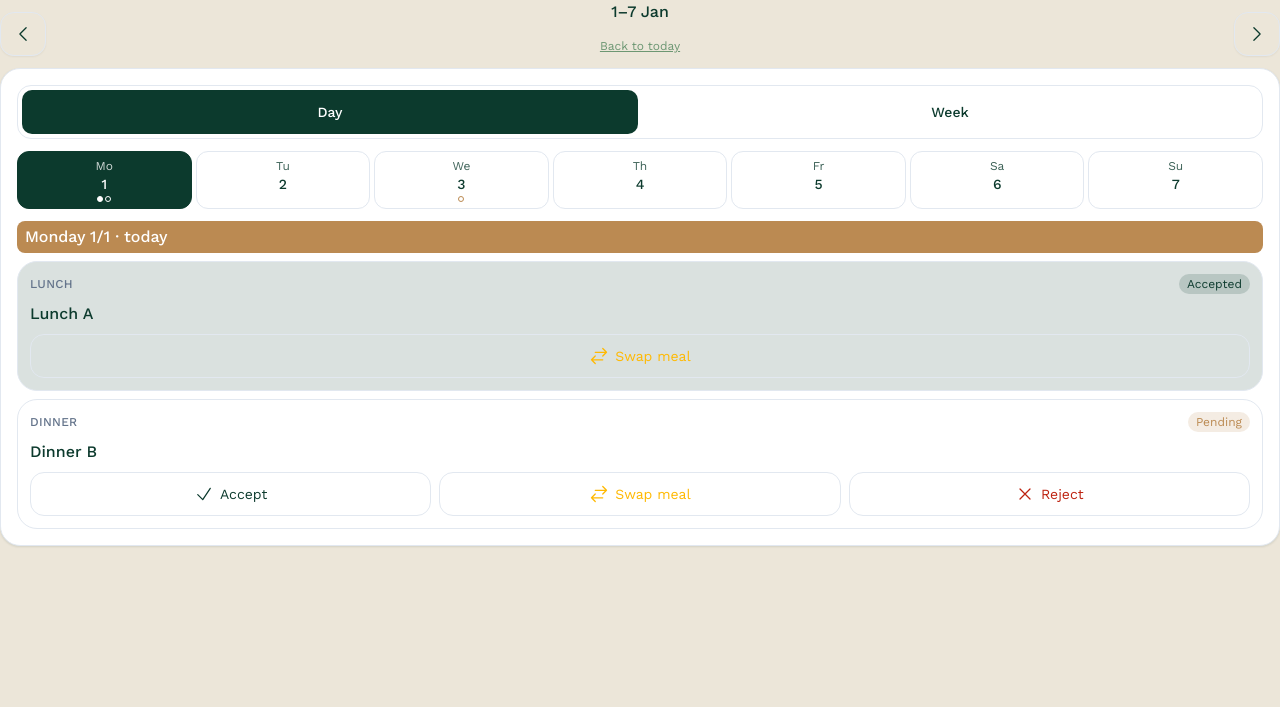
the week toggle shows every day and is remembered across remounts
Click the button "Week": [950, 112] box x1=642 y1=90 x2=1258 y2=134
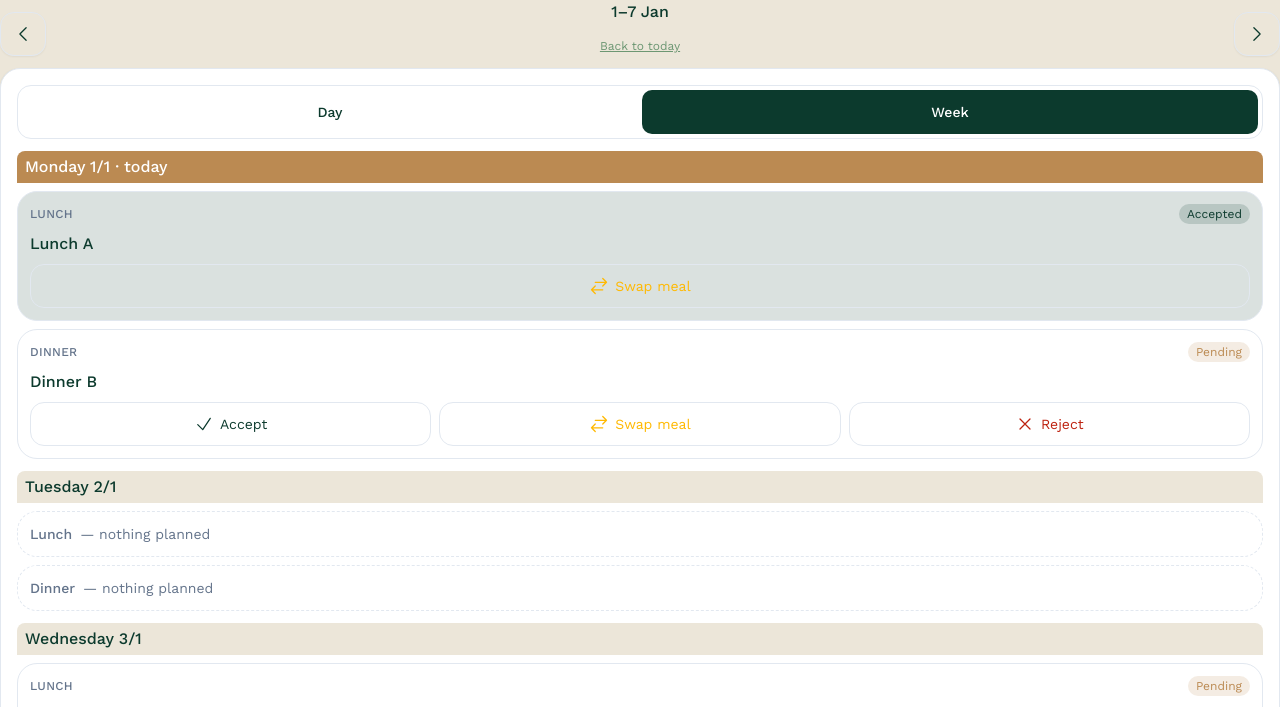
Expected: the number of elements with test id "mealplan-day" is 7
